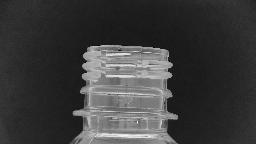No Cap: (68, 38, 182, 124)
